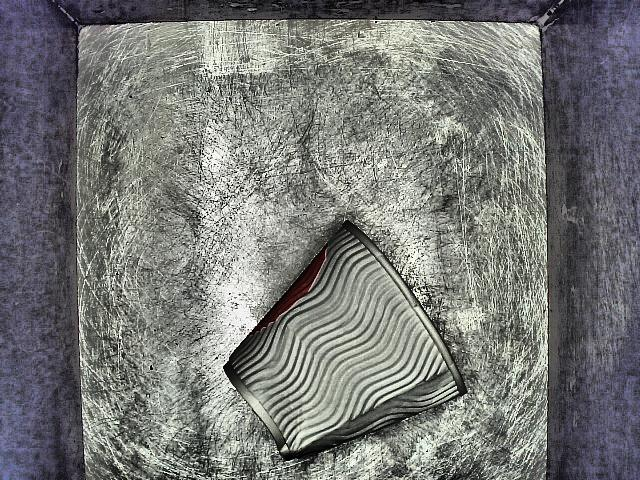Paper: (213, 213, 485, 473)
